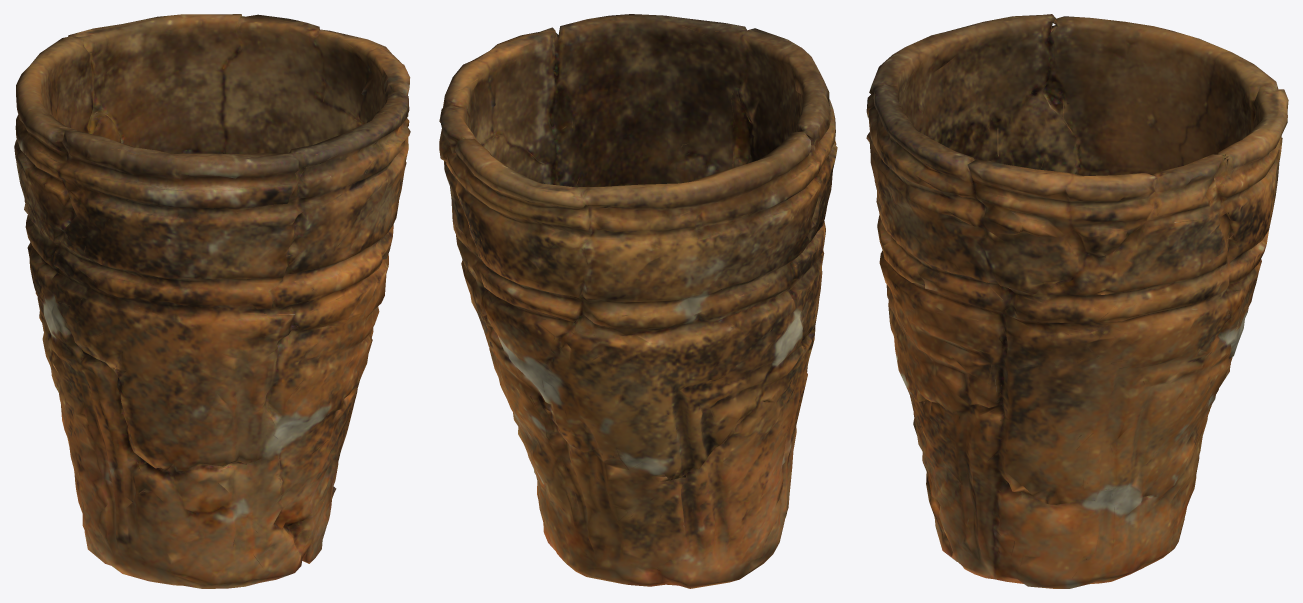
3 views of the same model, side by side, from view 1: azimuth 30°, elevation 25°; view 2: azimuth 150°, elevation 25°; view 3: azimuth 270°, elevation 25° (orthographic).
Visible parts, largest first — view 1: IN0228_low; view 2: IN0228_low; view 3: IN0228_low.
Boxes of the visible parts, x1,y1,x2,y2 form: IN0228_low: [14, 14, 410, 588]; IN0228_low: [439, 14, 837, 588]; IN0228_low: [866, 14, 1288, 588].
Bounding box in the file's own units: 97.78 × 124 × 102.
Materials: 1 (1 with a texture image).
